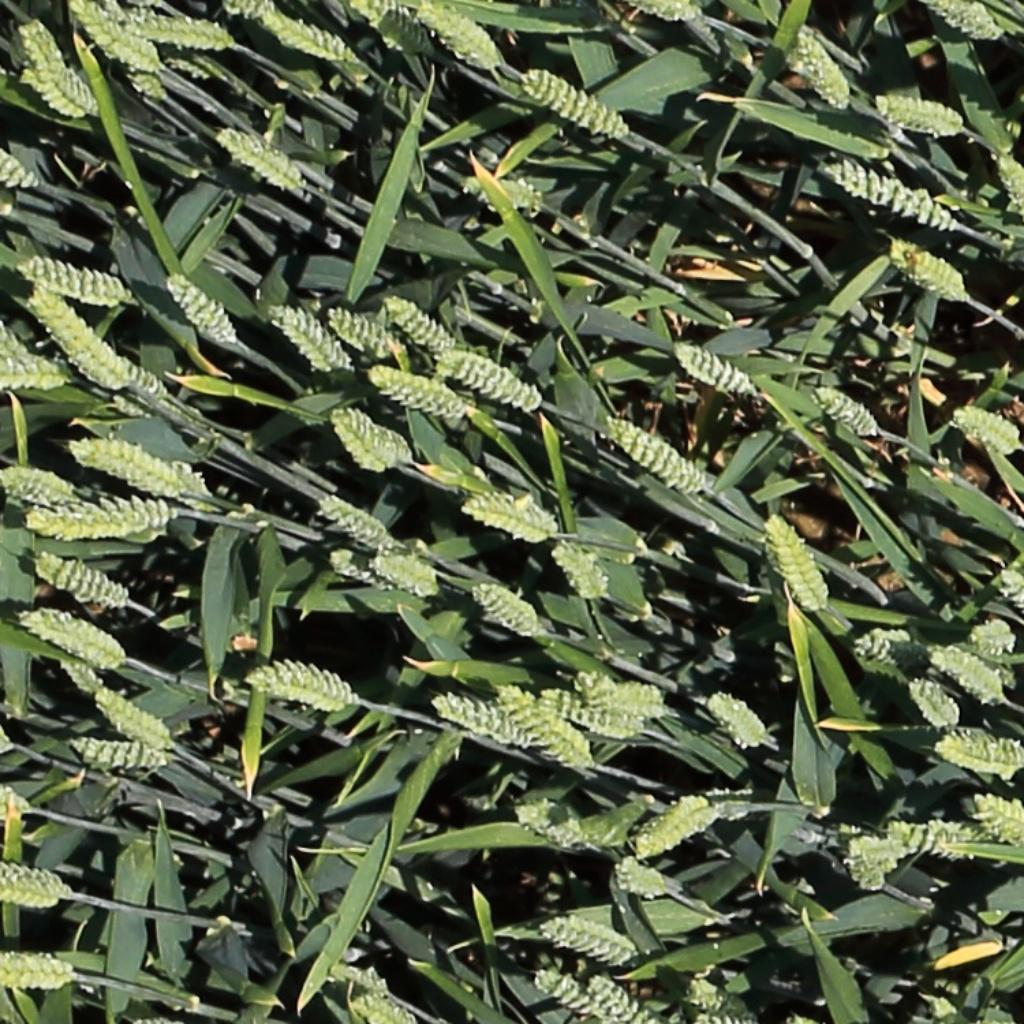0-0: (455, 478, 646, 567), (27, 285, 133, 391), (819, 158, 955, 226), (25, 490, 184, 546), (68, 442, 213, 503), (604, 415, 705, 494), (518, 66, 626, 136), (53, 651, 146, 731), (499, 684, 584, 770), (12, 19, 92, 109), (161, 268, 248, 349), (77, 342, 174, 414), (763, 510, 830, 614), (263, 301, 354, 374), (245, 663, 365, 716), (68, 2, 155, 75), (435, 350, 540, 409), (533, 914, 639, 972), (789, 20, 851, 114), (17, 611, 122, 666), (256, 8, 354, 66), (212, 125, 301, 188), (415, 1, 498, 68), (920, 636, 1003, 703), (430, 697, 529, 749), (31, 554, 126, 608), (365, 365, 462, 417), (15, 258, 129, 301), (852, 617, 934, 676), (87, 689, 167, 749), (458, 168, 550, 220), (945, 723, 1024, 783), (885, 815, 993, 857), (537, 692, 637, 737), (511, 797, 597, 849), (0, 333, 73, 394), (890, 241, 966, 299), (316, 495, 393, 551), (673, 342, 755, 394), (327, 409, 398, 469), (579, 676, 673, 721), (841, 831, 905, 897), (634, 805, 715, 857), (380, 294, 451, 352), (469, 582, 540, 637), (703, 693, 768, 752), (117, 13, 229, 47), (352, 1, 424, 53), (548, 540, 606, 602), (17, 65, 84, 117), (667, 785, 763, 821), (531, 969, 600, 1019), (582, 973, 651, 1021), (0, 862, 69, 910), (875, 94, 963, 131), (811, 386, 877, 435), (323, 307, 394, 352), (905, 677, 961, 734), (609, 851, 670, 903), (0, 954, 71, 997), (953, 406, 1022, 450), (326, 550, 397, 592), (681, 978, 746, 1021), (931, 0, 999, 39), (991, 146, 1024, 226), (370, 555, 438, 593), (363, 423, 420, 468), (2, 468, 73, 503), (69, 741, 159, 768), (110, 393, 165, 434), (972, 797, 1024, 836), (973, 808, 1024, 847), (966, 612, 1002, 661), (998, 570, 1024, 636), (348, 995, 405, 1024), (633, 0, 697, 21), (225, 0, 271, 19)
